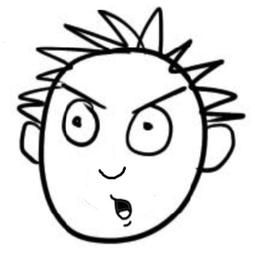eye: (119, 102, 176, 159), (50, 95, 103, 152)
frowning_eyebrow: (131, 85, 188, 112), (58, 82, 110, 110)
nose: (94, 163, 135, 183)
open_mouth: (105, 199, 141, 220)
